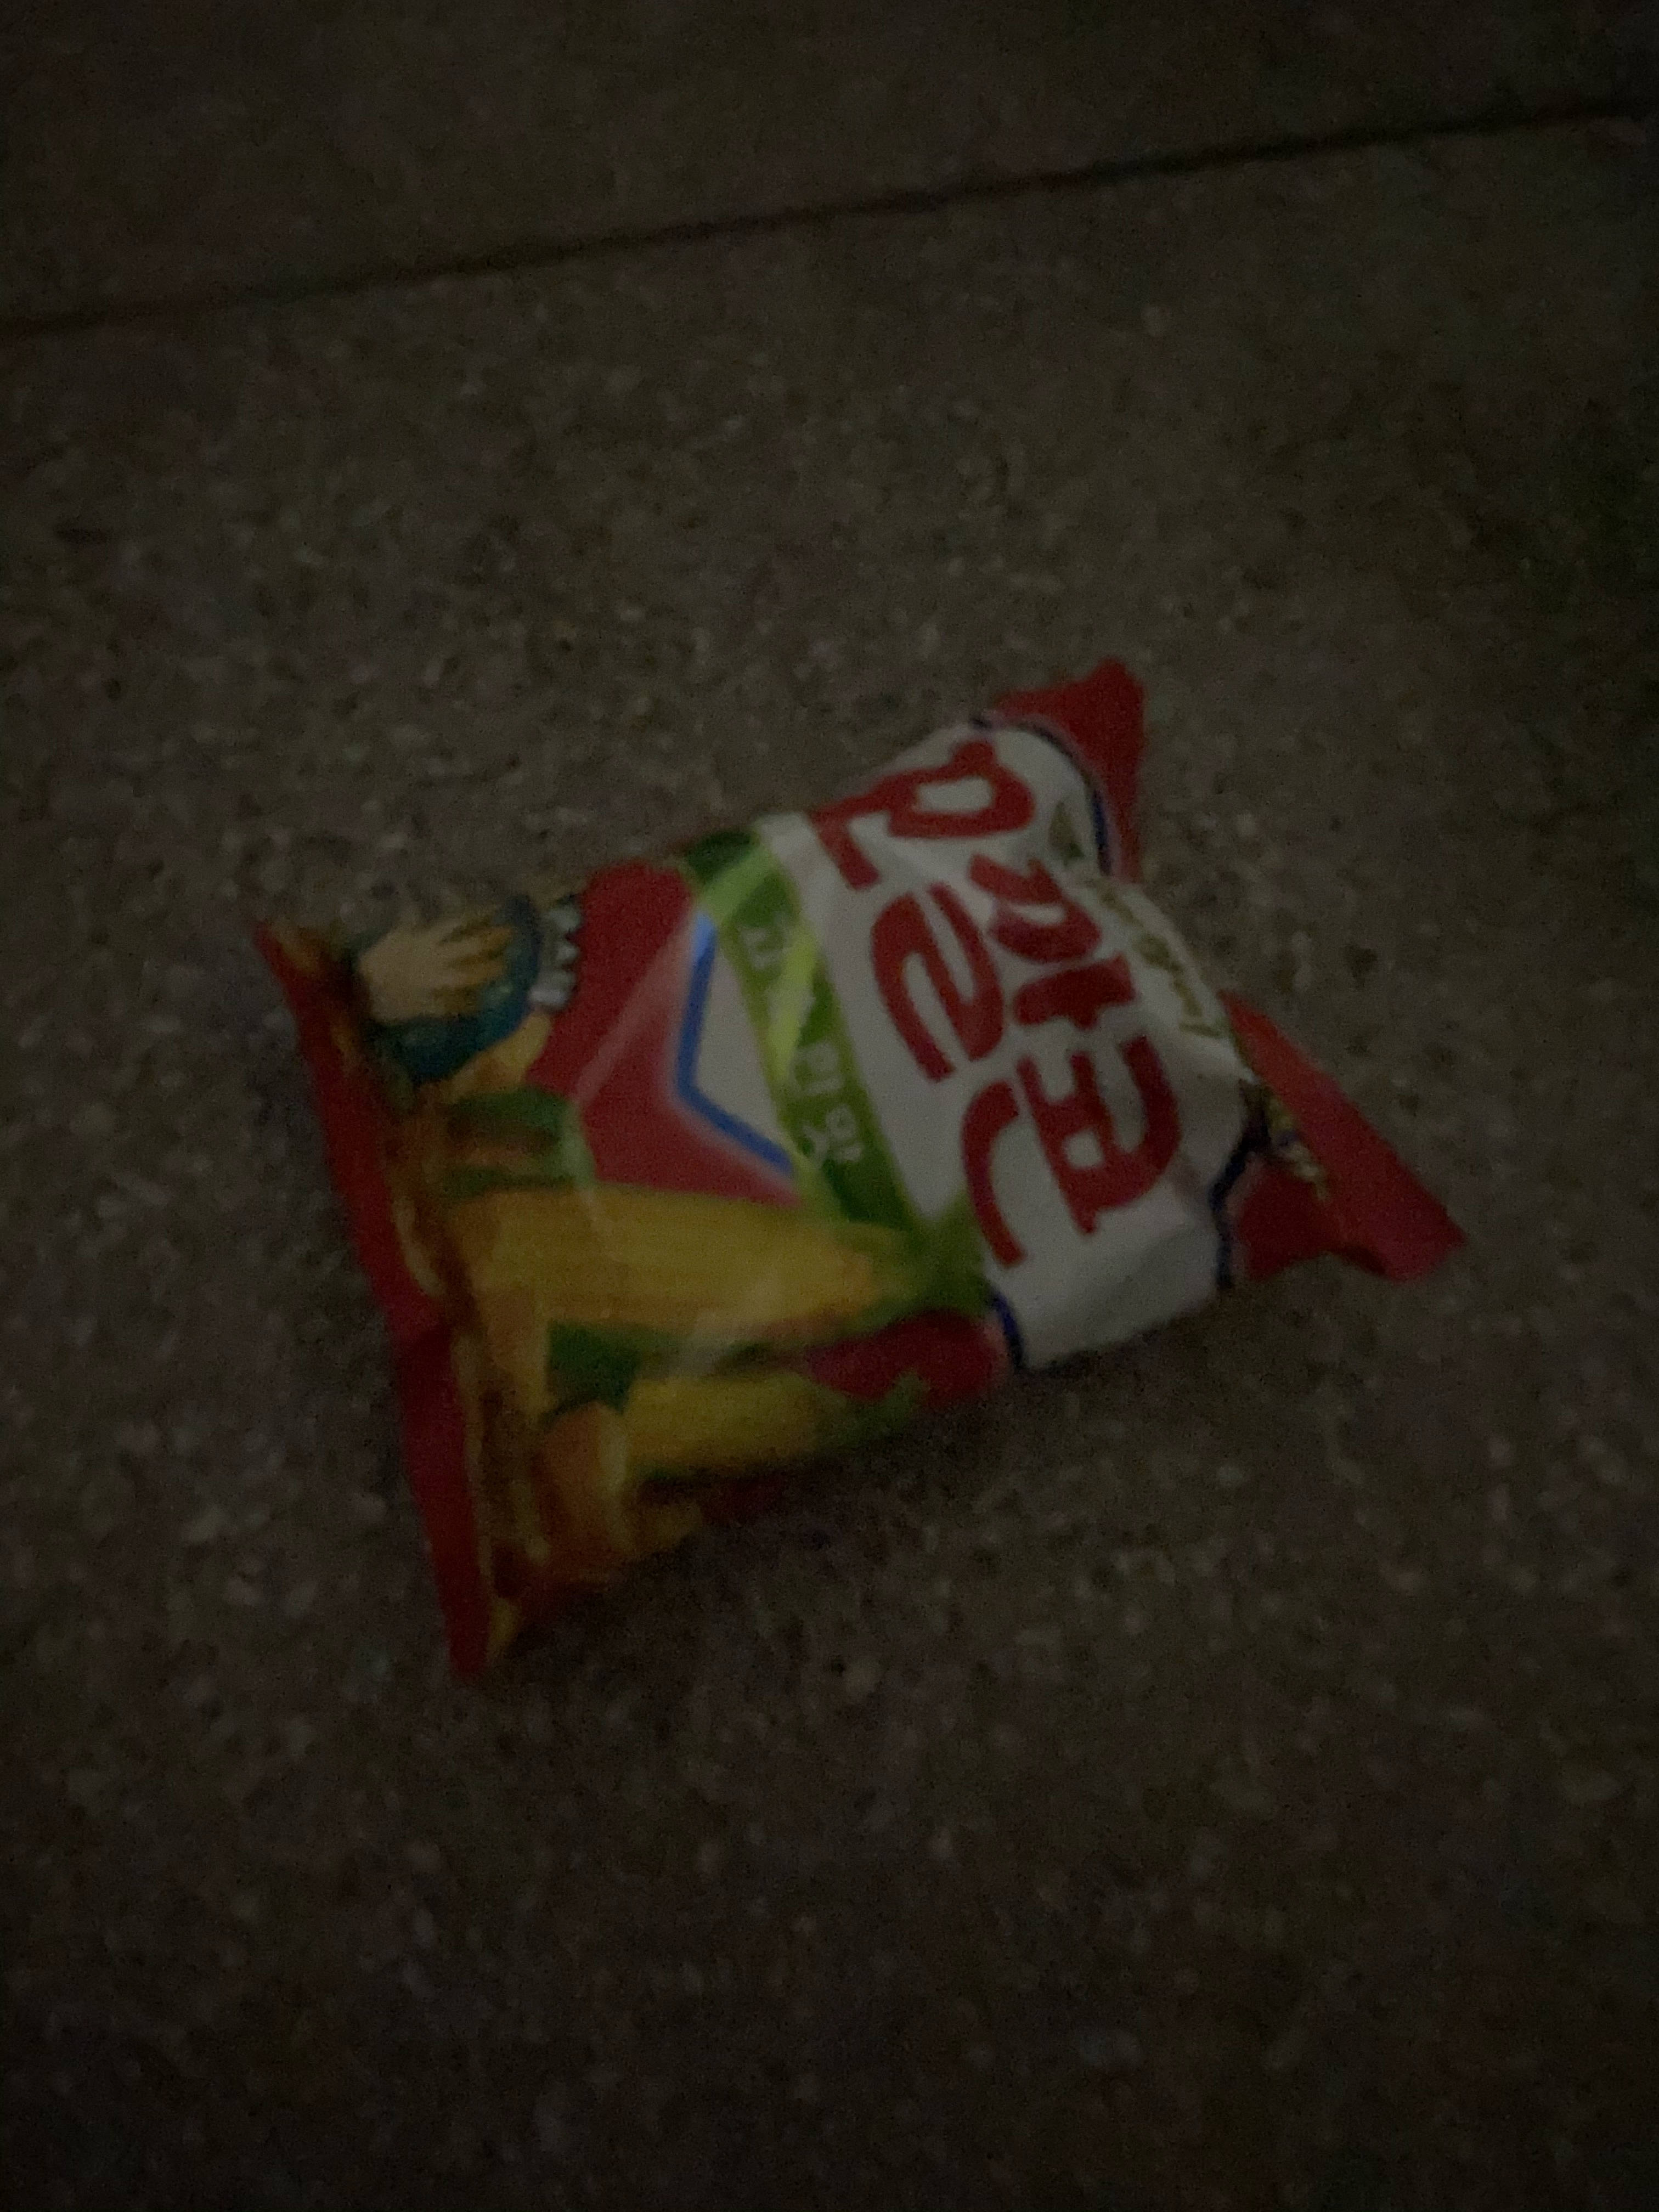ggoggalcon: (225, 643, 1492, 1691)
